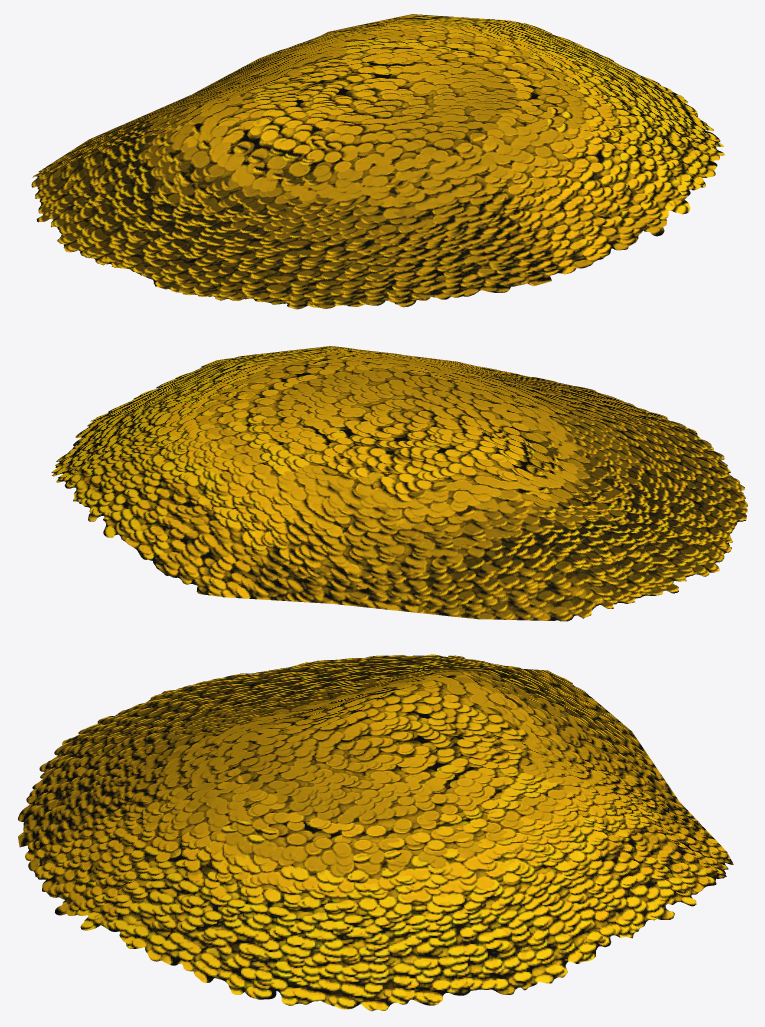
Rendered from INST_SM_GOLDPILE_MEDIUMC.fbx.
3 views of the same model, one above another, from view 1: azimuth 30°, elevation 25°; view 2: azimuth 150°, elevation 25°; view 3: azimuth 270°, elevation 25° (orthographic). The views are drawn at different scales.
Parts seen in each view (by area): view 1: INST_SM_GOLDPILE_MEDIUMC; view 2: INST_SM_GOLDPILE_MEDIUMC; view 3: INST_SM_GOLDPILE_MEDIUMC.
Part boxes in pixels (box(x1,y1,x2,y2)): INST_SM_GOLDPILE_MEDIUMC: box(31, 14, 724, 309); INST_SM_GOLDPILE_MEDIUMC: box(51, 346, 747, 621); INST_SM_GOLDPILE_MEDIUMC: box(18, 654, 733, 1011).
Size of the model in its own units: 90000 by 10000 by 77500.
Materials: 1 (1 with a texture image).
